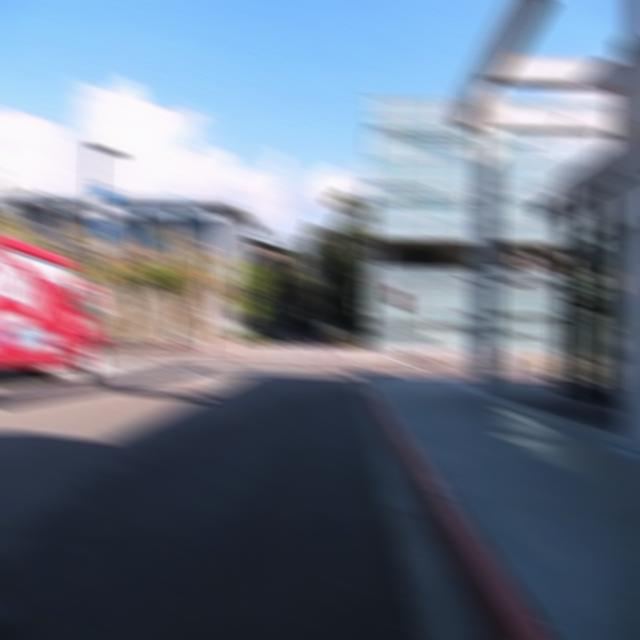stop_sign: (76, 280, 104, 307), (384, 285, 408, 311)
